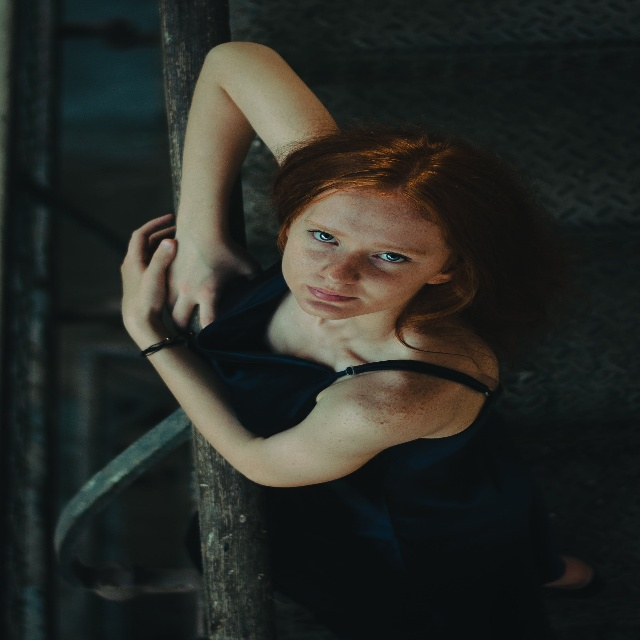Sin_guantes: (164, 201, 255, 334), (117, 210, 177, 353)
